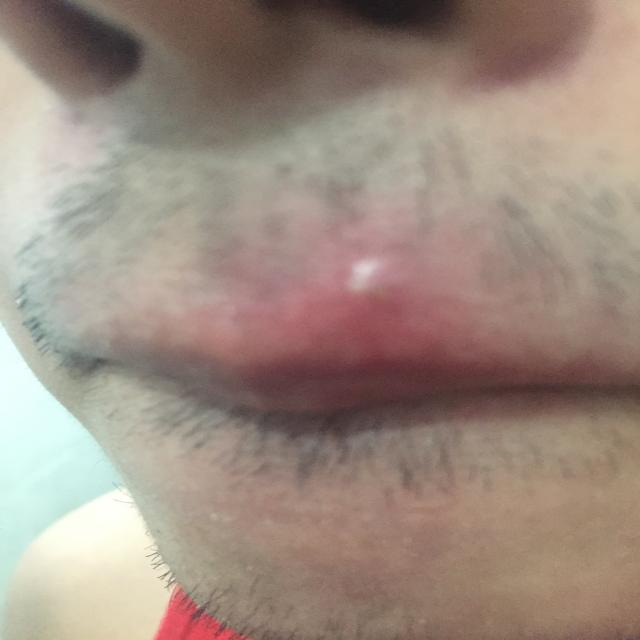blackheads: (334, 237, 422, 306)
